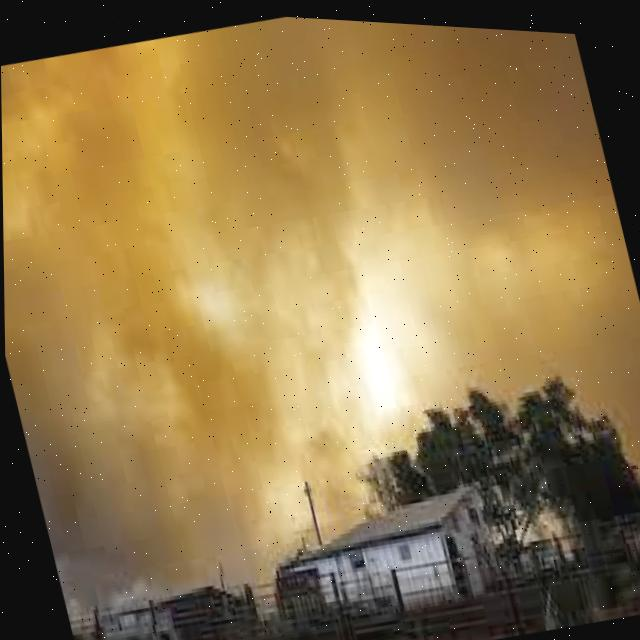smoke: (1, 13, 640, 480), (34, 434, 320, 601)
